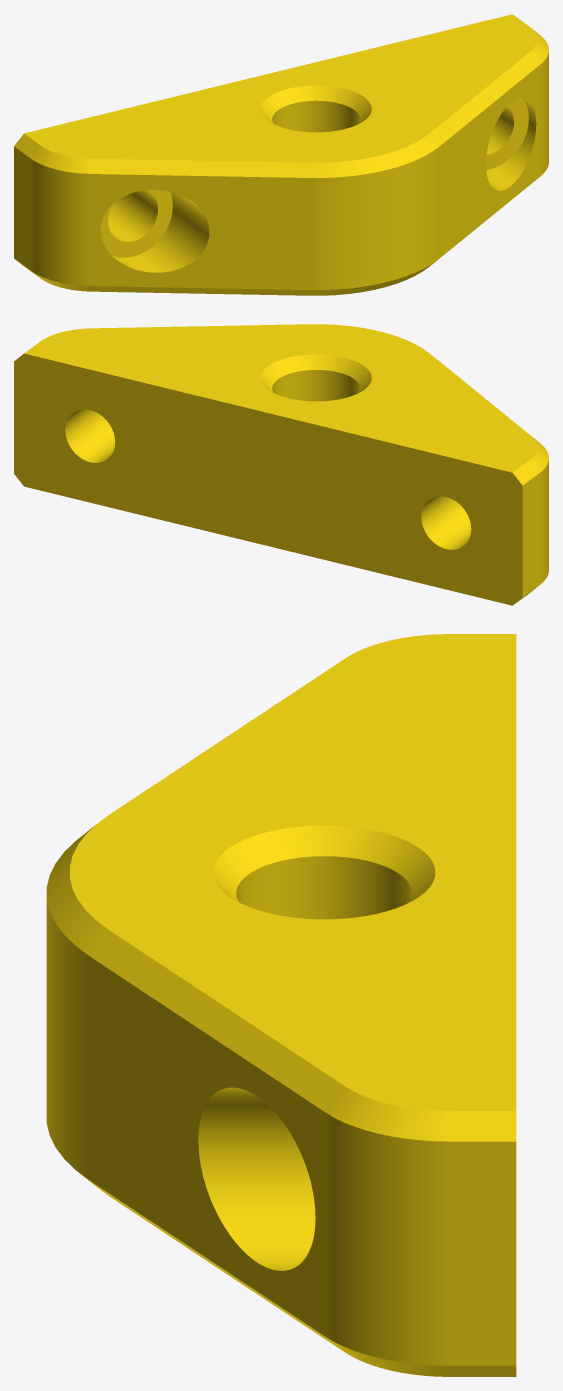
File: A26_S110_bearingBlock.gltf
The picture shows the model from 3 angles, top to bottom: view 1: azimuth 30°, elevation 25°; view 2: azimuth 150°, elevation 25°; view 3: azimuth 270°, elevation 25°; orthographic projection. The views are drawn at different scales.
Visible parts, largest first — view 1: mesh21519, mesh21524, mesh21511, mesh21523, mesh21515, mesh21521, mesh21525, mesh21499, mesh21518, mesh21520, mesh21500, mesh21527 (+10 smaller); view 2: mesh21528, mesh21519, mesh21499, mesh21527, mesh21530, mesh21514, mesh21500, mesh21515, mesh21522, mesh21516; view 3: mesh21519, mesh21523, mesh21507, mesh21529, mesh21505, mesh21511, mesh21518, mesh21499, mesh21500, mesh21517, mesh21520, mesh21508 (+1 smaller).
Part boxes in pixels (box(x1,y1,x2,y2)): mesh21519: box(24, 14, 537, 162); mesh21524: box(91, 174, 309, 290); mesh21511: box(310, 146, 439, 290); mesh21523: box(439, 64, 540, 257); mesh21515: box(30, 159, 90, 285); mesh21521: box(91, 158, 310, 177); mesh21525: box(112, 191, 209, 272); mesh21499: box(272, 100, 360, 132); mesh21518: box(429, 51, 540, 146); mesh21520: box(310, 134, 439, 177); mesh21500: box(260, 85, 371, 123); mesh21527: box(108, 190, 157, 241); mesh21528: box(14, 353, 522, 605); mesh21519: box(24, 324, 537, 472); mesh21499: box(272, 370, 360, 401); mesh21527: box(421, 496, 471, 549); mesh21530: box(65, 409, 115, 462); mesh21514: box(522, 474, 539, 597); mesh21500: box(260, 354, 371, 392); mesh21515: box(539, 460, 548, 584); mesh21522: box(529, 437, 548, 473); mesh21516: box(513, 461, 538, 485); mesh21519: box(70, 634, 516, 1110); mesh21523: box(90, 957, 325, 1336); mesh21507: box(326, 1113, 449, 1365); mesh21529: box(198, 1087, 315, 1270); mesh21505: box(450, 1141, 516, 1365); mesh21511: box(46, 900, 89, 1180); mesh21518: box(90, 930, 345, 1112); mesh21499: box(236, 856, 412, 919); mesh21500: box(213, 825, 435, 901); mesh21517: box(326, 1087, 449, 1141); mesh21520: box(46, 825, 109, 956); mesh21508: box(450, 1111, 516, 1141).
Bounding box in the file's own units: 0.0508 × 0.0127 × 0.0203.
